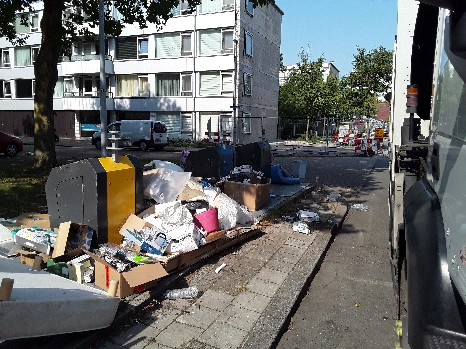Container: (67, 156, 129, 237), (195, 139, 233, 174), (239, 139, 274, 172)
Papier: (137, 217, 204, 271), (95, 253, 161, 298), (223, 175, 282, 209), (56, 231, 94, 266)
Rest: (1, 219, 80, 340), (197, 207, 274, 254), (152, 167, 204, 215)
Voertuig: (390, 2, 466, 349), (114, 119, 164, 154), (0, 130, 22, 155)
